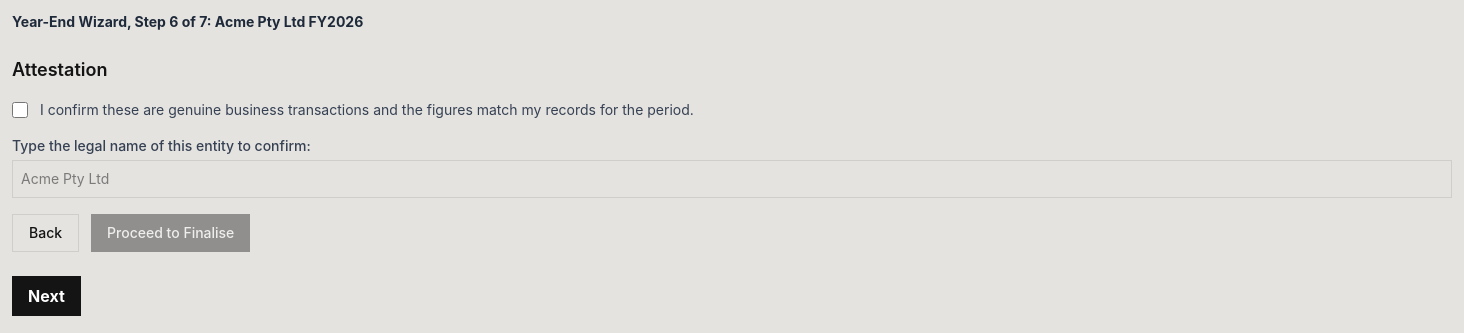
Scenario: YearEndWizard (UX-01 scaffold) › Test W.8: case-insensitive name match — "ACME pty ltd" matches "Acme Pty Ltd"
This screenshot has width=1464, height=333.
Click the checkbox at (20, 110), box top-left (12, 102), bottom-right (28, 118)
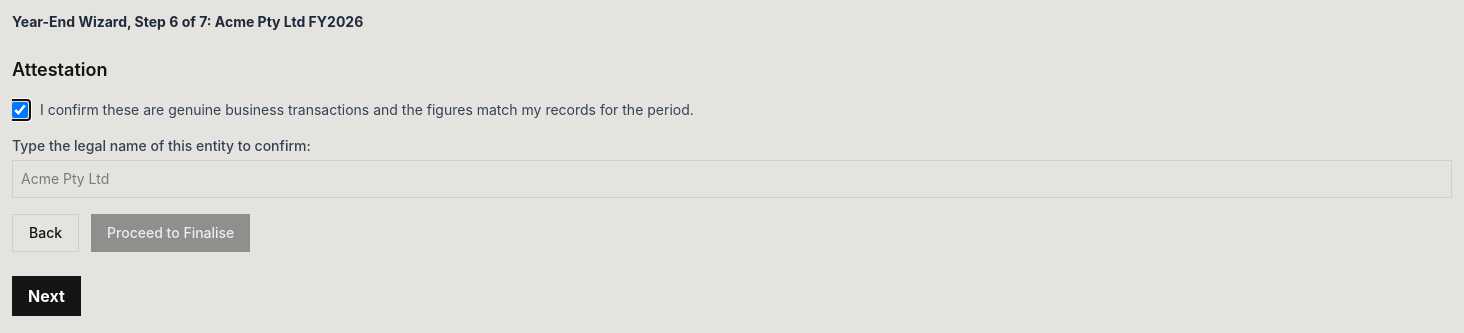
Type "ACME pty ltd" into the field at (732, 179), box top-left (12, 160), bottom-right (1452, 198)
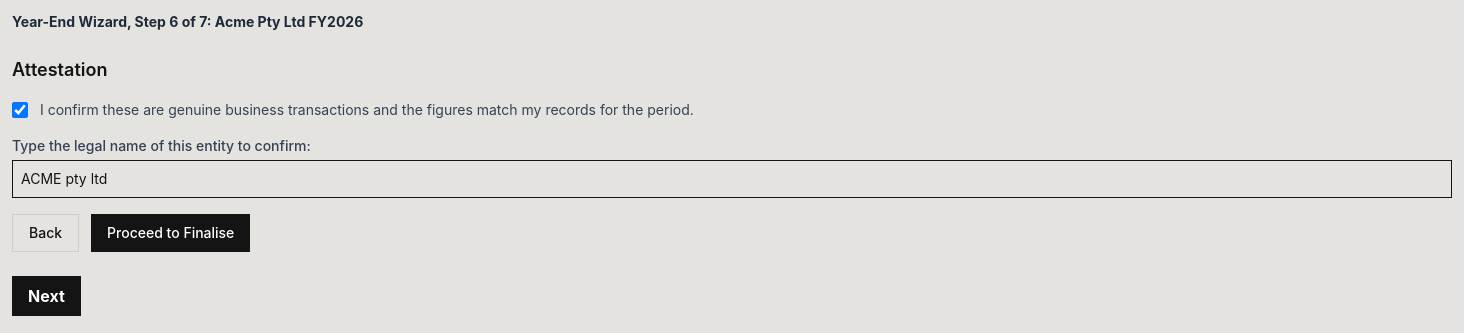
Expected: the button with test id "wizard-finalise" is enabled, top-left (91, 214), bottom-right (250, 252)
